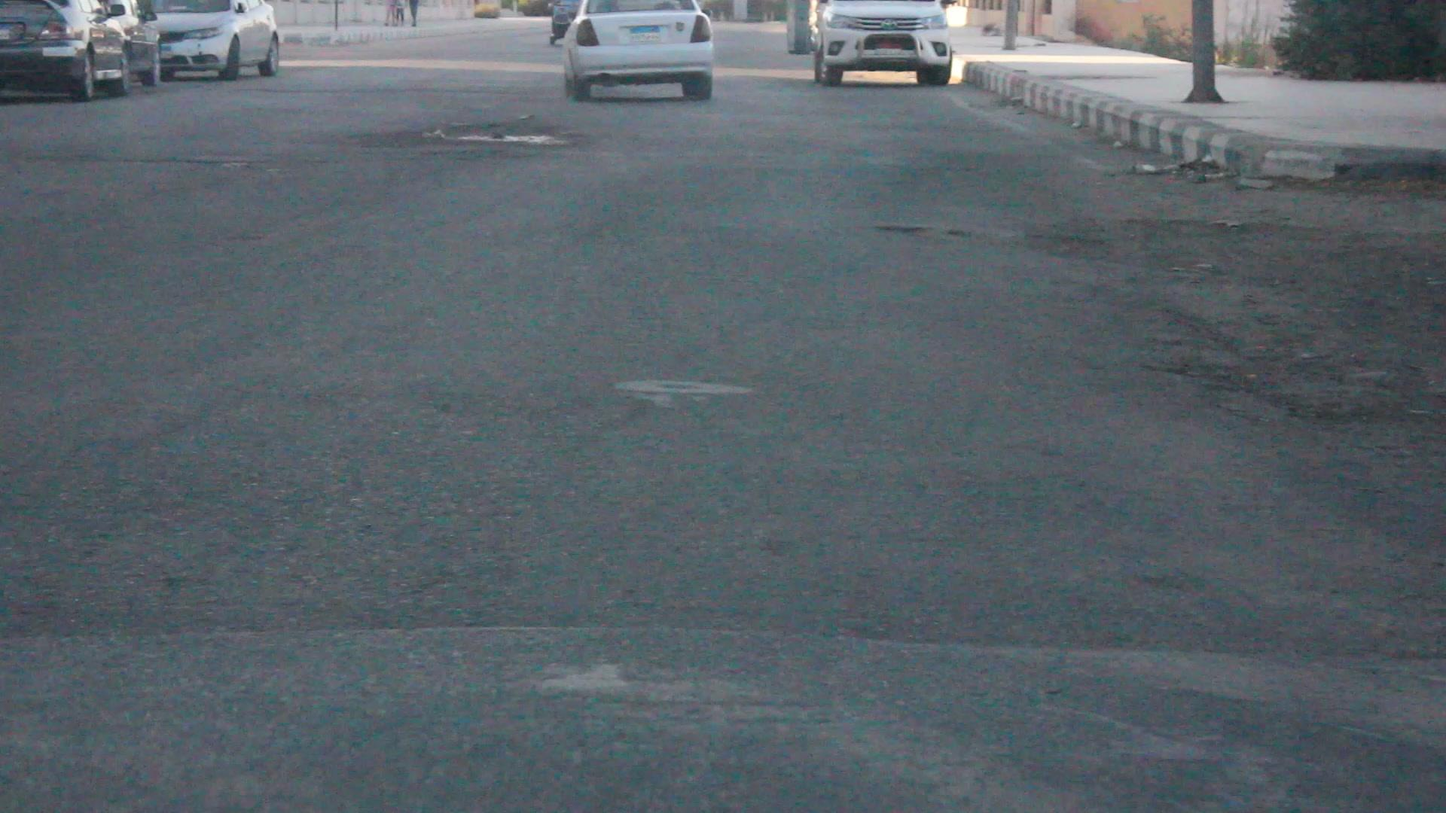Bump: (0, 615, 1446, 813)
Pothole: (1143, 198, 1446, 536), (380, 96, 572, 160), (844, 199, 1030, 252)
